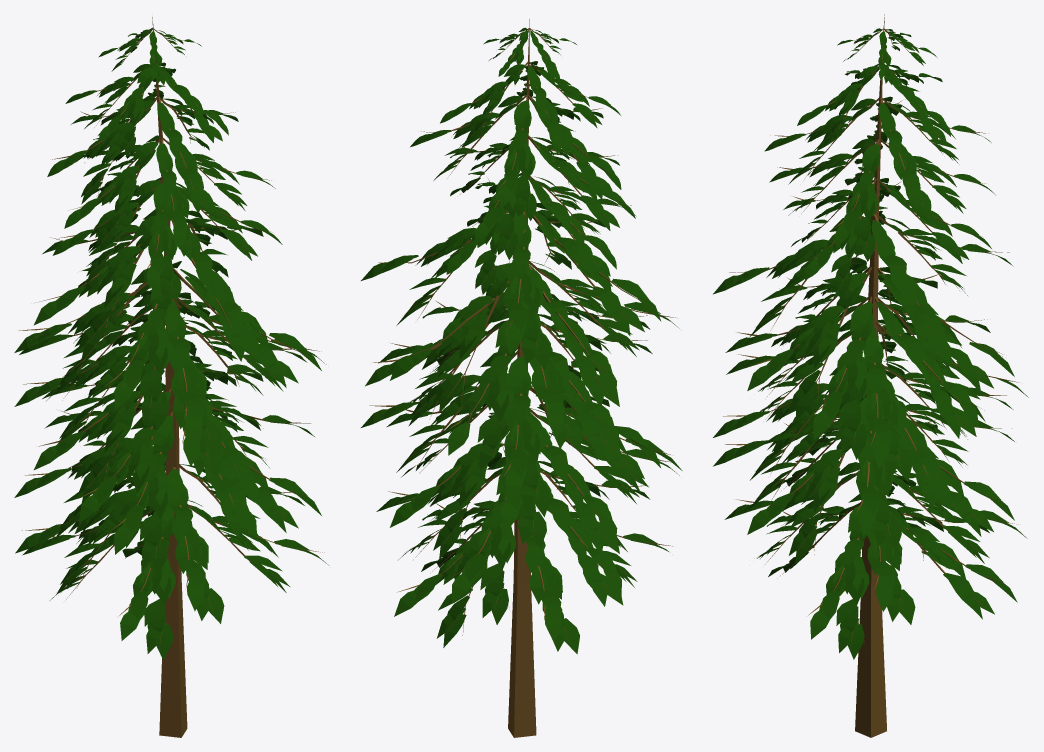
File: Tree 3.fbx
The picture shows the model from 3 angles, left to right: view 1: azimuth 30°, elevation 25°; view 2: azimuth 150°, elevation 25°; view 3: azimuth 270°, elevation 25°; orthographic projection. The views are drawn at different scales.
Parts seen in each view (by area): view 1: good tree 1; view 2: good tree 1; view 3: good tree 1.
Part boxes in pixels (bbox=[...]): good tree 1: bbox=[14, 17, 328, 737]; good tree 1: bbox=[361, 19, 682, 737]; good tree 1: bbox=[713, 14, 1028, 737].
Bounding box in the file's own units: 1833 × 4529 × 1833.
